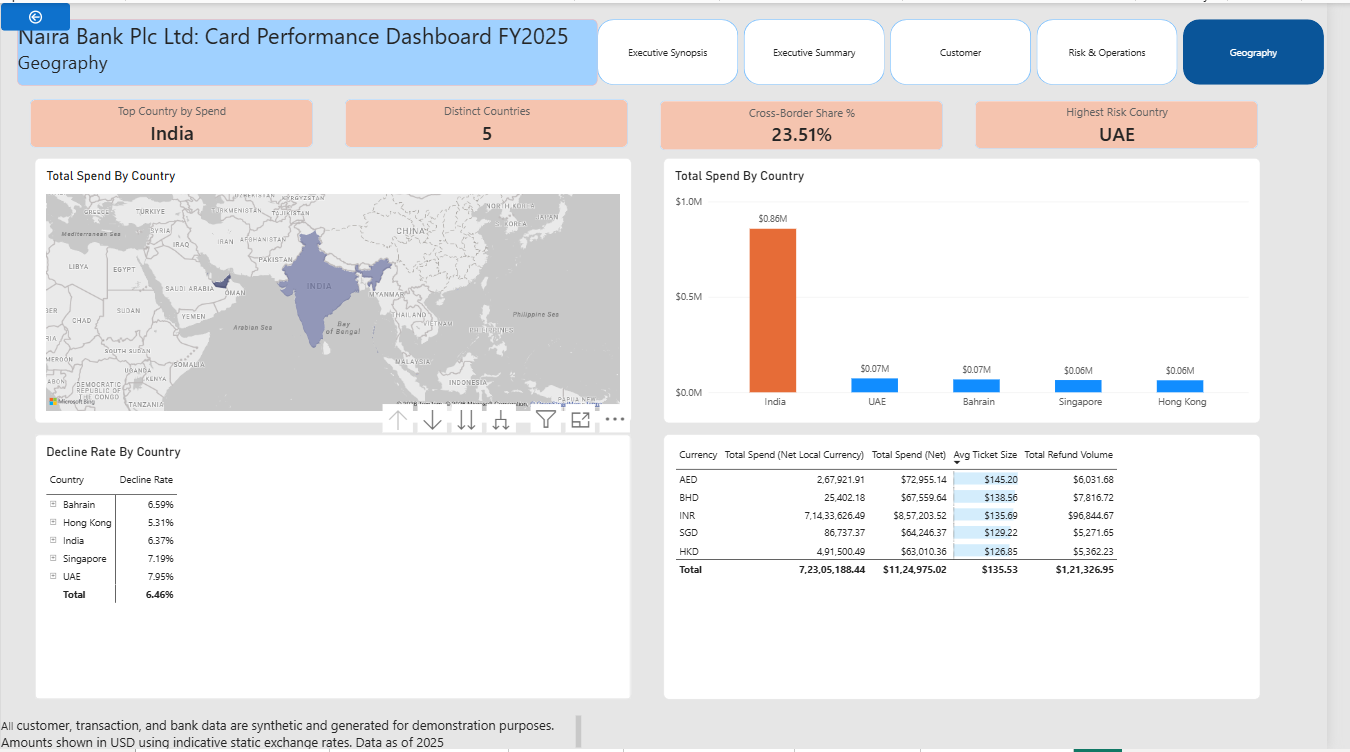

The dashboard page shown, as its layout file describes it:
{"tool":"powerbi","page":{"name":"Geography","canvas":[1920,1080],"ordinal":4},"visuals":[{"type":"textbox","box":[24,24,840,96],"z":0},{"type":"pageNavigator","box":[864,24,1056,96],"z":1000},{"type":"textbox","box":[0,1032,840,48],"z":2000},{"type":"cardVisual","fields":{"Data":["_Measures.Top Country by Spend"]},"box":[41.3,138.5,410,70],"z":7000},{"type":"cardVisual","fields":{"Data":["_Measures.Distinct Countries"]},"box":[497.3,138.5,410,70],"z":8000},{"type":"cardVisual","fields":{"Data":["_Measures.Cross-Border Share %"]},"box":[953.1,141.5,410,72],"z":9000},{"type":"cardVisual","fields":{"Data":["_Measures.Highest Risk Country"]},"box":[1409.1,141.5,410,70],"z":10000},{"type":"filledMap","title":"Total Spend By Country","fields":{"Category":["Dim_BIN_Info.Country"]},"box":[48,224,864,384],"z":11000},{"type":"columnChart","title":"Total Spend By Country","fields":{"Y":["_Measures.Total Spend (Net)"],"Category":["Dim_BIN_Info.Country"]},"box":[960,224,864,384],"z":12000},{"type":"pivotTable","title":"Decline Rate By Country","fields":{"Rows":["Dim_BIN_Info.Country","Dim_BIN_Info.City"],"Values":["_Measures.Decline Rate"]},"box":[48,624,864,384],"z":13000},{"type":"tableEx","fields":{"Values":["Dim_Currency.Currency","_Measures.Total Spend (Net Local Currency)","_Measures.Total Spend (Net)","_Measures.Avg Ticket Size","_Measures.Total Refund Volume"]},"box":[960,624,864,384],"z":14000},{"type":"actionButton","box":[0,0,100,40],"z":15000}]}

Visuals, with their boxes on the page's 1920x1080 design canvas (x1, y1, x2, y2). These are canvas units, not pixel positions in the 1350x752 screenshot, which may show the page scaled, cropped or inside an application window:
textbox: box=[24, 24, 864, 120]
pageNavigator: box=[864, 24, 1920, 120]
textbox: box=[0, 1032, 840, 1080]
cardVisual - _Measures.Top Country by Spend: box=[41, 138, 451, 208]
cardVisual - _Measures.Distinct Countries: box=[497, 138, 907, 208]
cardVisual - _Measures.Cross-Border Share %: box=[953, 142, 1363, 214]
cardVisual - _Measures.Highest Risk Country: box=[1409, 142, 1819, 212]
"Total Spend By Country" filledMap: box=[48, 224, 912, 608]
"Total Spend By Country" columnChart: box=[960, 224, 1824, 608]
"Decline Rate By Country" pivotTable: box=[48, 624, 912, 1008]
tableEx - Dim_Currency.Currency x _Measures.Total Spend (Net Local Currency): box=[960, 624, 1824, 1008]
actionButton: box=[0, 0, 100, 40]
